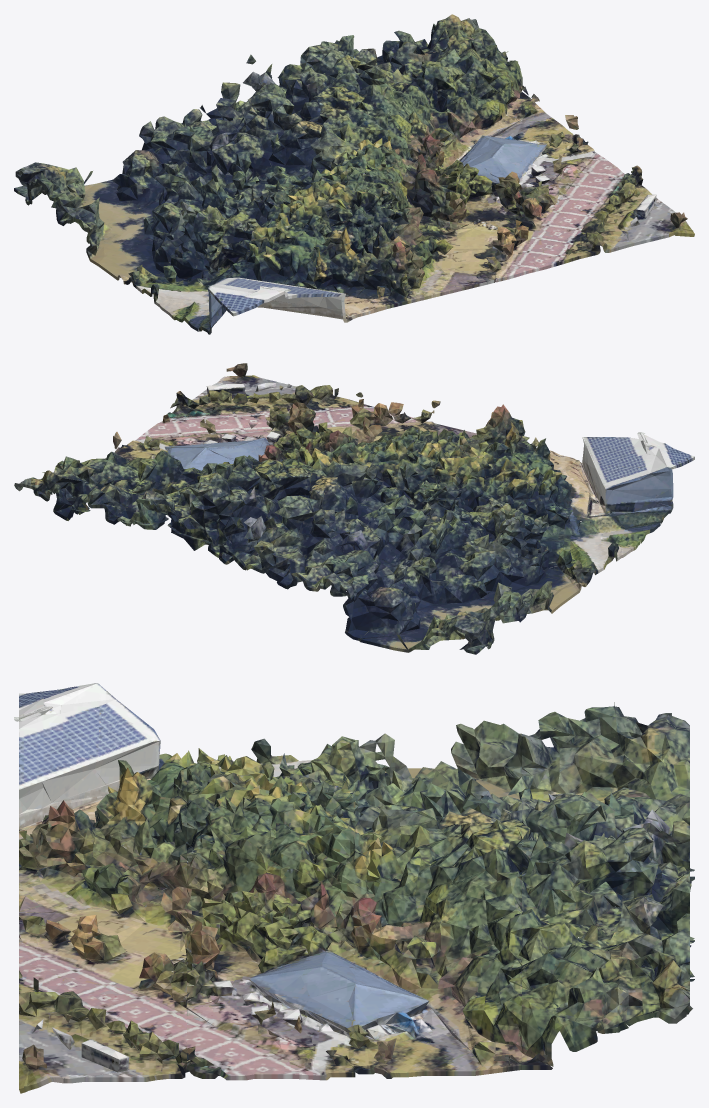
File: Split13.fbx
The picture shows the model from 3 angles, top to bottom: view 1: azimuth 30°, elevation 25°; view 2: azimuth 150°, elevation 25°; view 3: azimuth 270°, elevation 25°; orthographic projection. The views are drawn at different scales.
Parts seen in each view (by area): view 1: BuildingMesh-00109; view 2: BuildingMesh-00109; view 3: BuildingMesh-00109.
Part boxes in pixels (x1=…): BuildingMesh-00109: x1=14, y1=14, x2=694, y2=334; BuildingMesh-00109: x1=14, y1=363, x2=694, y2=654; BuildingMesh-00109: x1=14, y1=683, x2=694, y2=1093.
Bounding box in the file's own units: 195 × 41.18 × 162.
Materials: 8 (8 with a texture image).
